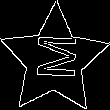M_W: (29, 36, 79, 84)
